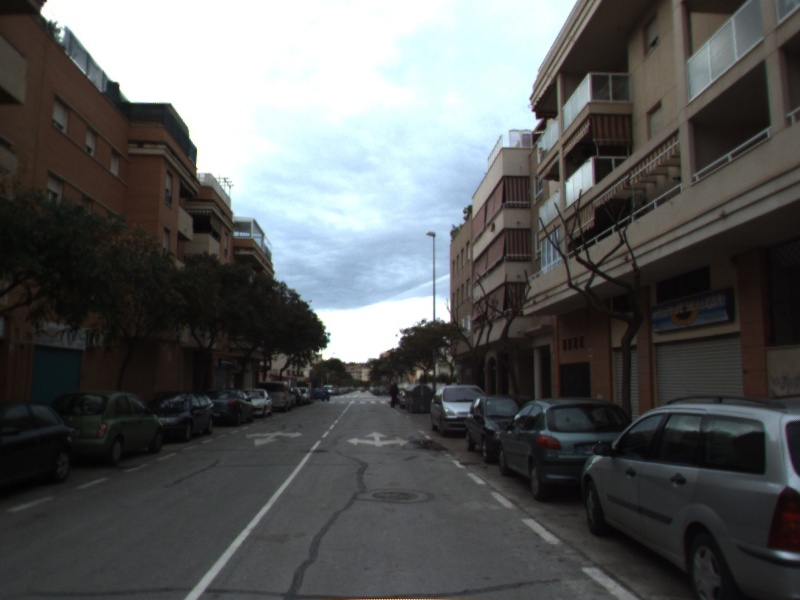STRAIGHT_LEFT_RIGHT: (345, 430, 411, 449)
